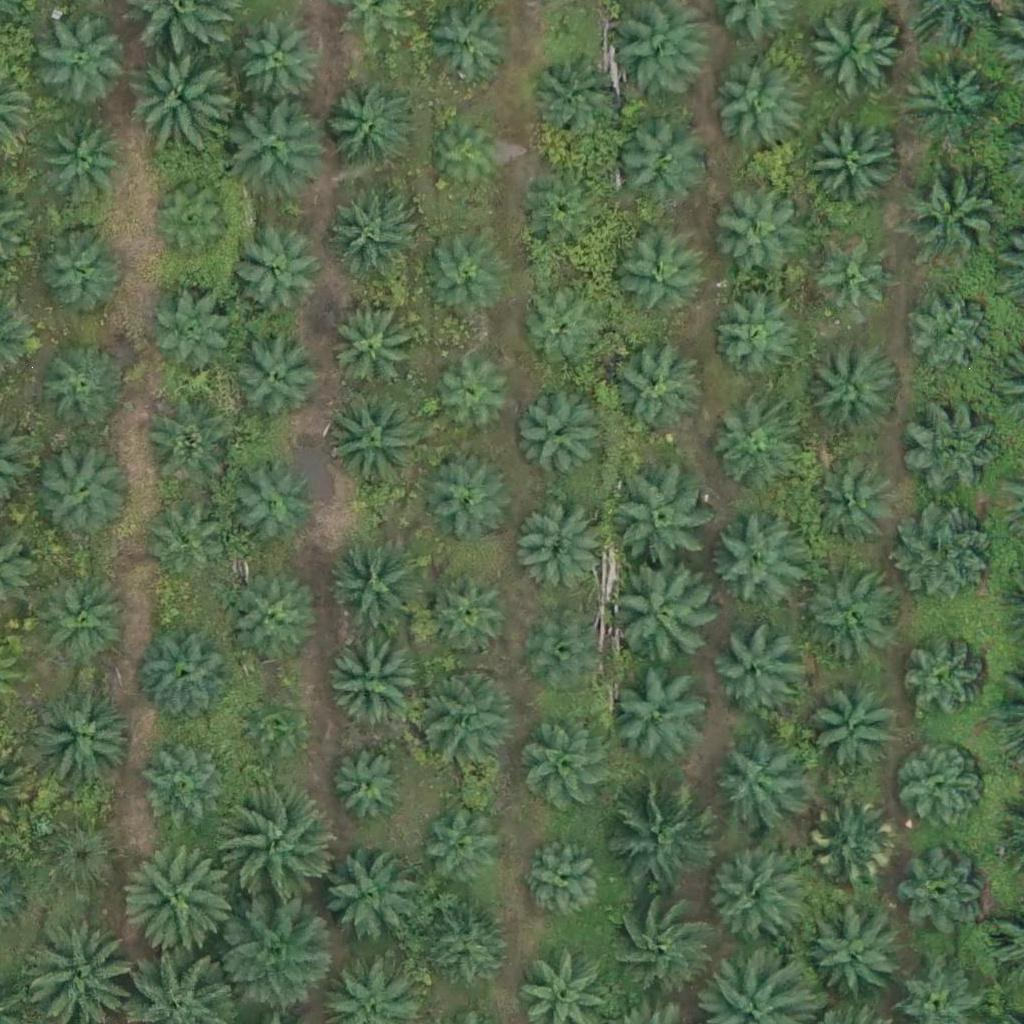Kelapa_Sawit: (605, 561, 718, 675), (217, 900, 330, 1013), (124, 842, 237, 955), (605, 785, 717, 899), (224, 790, 336, 904), (601, 892, 713, 1005), (806, 905, 906, 1006), (617, 666, 717, 767), (411, 666, 511, 767), (138, 626, 238, 727), (30, 683, 130, 784), (32, 435, 132, 536), (30, 568, 130, 669), (126, 42, 226, 143), (229, 98, 329, 199), (324, 394, 424, 495), (327, 534, 427, 635), (529, 48, 629, 149), (602, 344, 702, 445), (617, 469, 717, 570), (707, 181, 807, 282), (801, 564, 901, 665), (802, 115, 902, 216), (899, 48, 999, 149), (902, 159, 1002, 260), (901, 397, 1001, 498), (899, 501, 999, 602), (700, 848, 800, 948), (325, 633, 425, 733), (319, 849, 419, 949), (612, 2, 712, 102), (708, 507, 808, 607), (518, 836, 606, 925), (328, 87, 416, 176), (710, 626, 798, 714), (711, 742, 799, 830), (526, 726, 614, 814), (420, 799, 508, 887), (32, 816, 120, 904), (141, 747, 229, 835), (37, 226, 125, 314), (38, 346, 126, 434), (152, 290, 240, 378), (145, 404, 233, 492), (238, 22, 326, 110), (230, 233, 318, 321), (234, 334, 322, 422), (226, 463, 314, 551), (328, 193, 416, 281), (524, 172, 612, 260), (615, 120, 703, 208), (611, 232, 699, 320), (712, 64, 800, 152), (709, 297, 797, 385), (811, 341, 899, 429), (906, 291, 994, 379), (40, 112, 127, 201), (805, 234, 892, 323), (901, 640, 988, 728), (898, 749, 985, 837), (901, 848, 988, 936), (808, 801, 895, 889), (807, 686, 894, 774), (423, 904, 510, 992), (40, 22, 127, 110), (143, 499, 230, 587), (146, 181, 233, 269), (233, 579, 320, 667), (331, 307, 418, 395), (426, 571, 513, 659), (426, 453, 513, 541), (433, 349, 520, 437), (421, 226, 508, 314), (520, 289, 607, 377), (519, 398, 606, 486), (516, 506, 603, 594), (708, 404, 795, 492), (806, 462, 893, 550), (431, 120, 506, 196), (330, 749, 405, 825), (530, 616, 605, 692), (241, 693, 303, 756)
